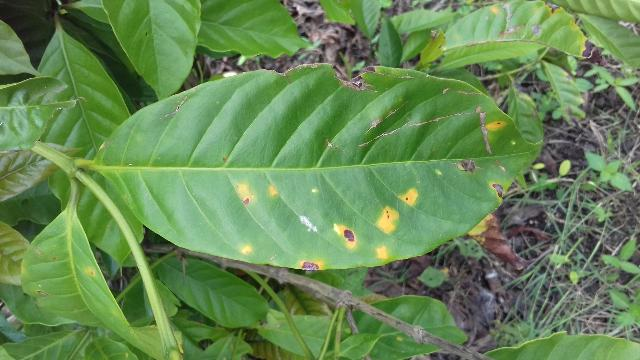rust_level_1: (76, 62, 547, 272)
